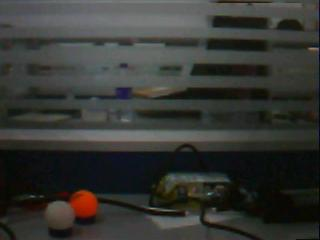oball: (72, 190, 98, 216)
